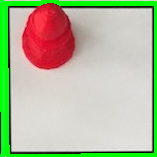Red Bishop: (20, 1, 78, 71)
